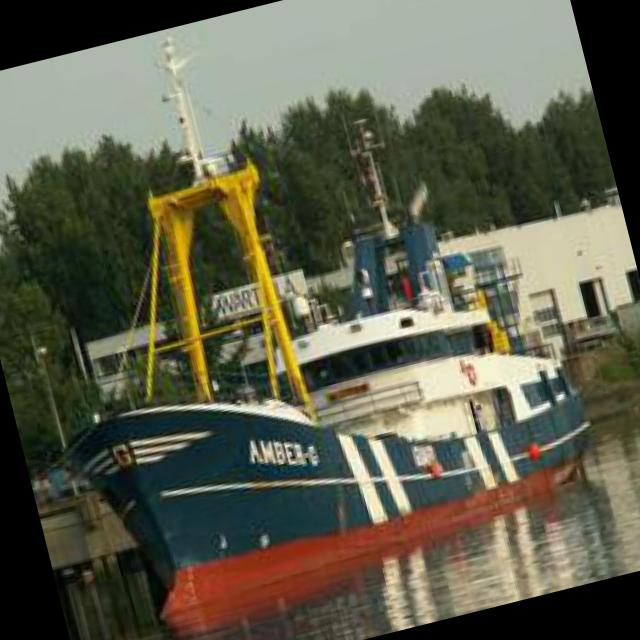boat: (59, 322, 614, 626)
